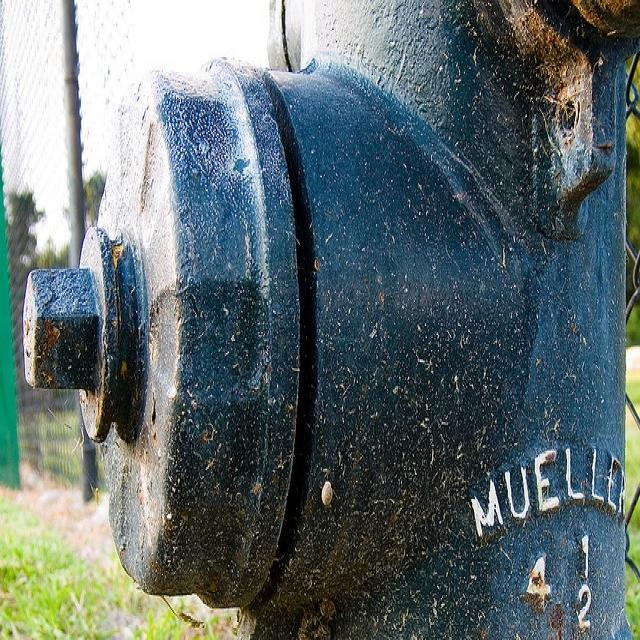fire_hydrant: (20, 0, 639, 628)
